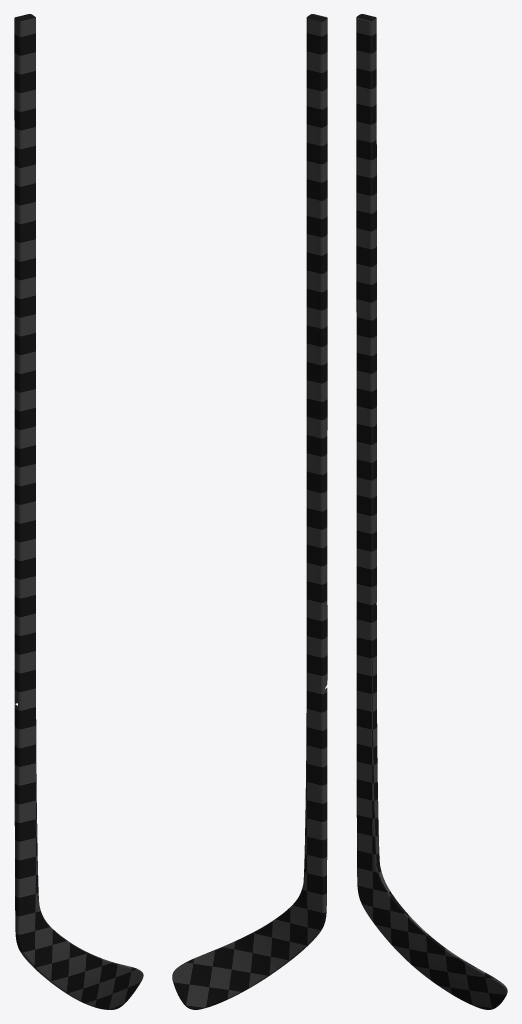
The picture shows the model from 3 angles, left to right: view 1: azimuth 30°, elevation 25°; view 2: azimuth 150°, elevation 25°; view 3: azimuth 330°, elevation 25°; orthographic projection. The views are drawn at different scales.
Parts seen in each view (by area): view 1: geometry_0; view 2: geometry_0; view 3: geometry_0.
Part boxes in pixels (<box>): geometry_0: <box>14,14,143,1009</box>; geometry_0: <box>172,14,327,1009</box>; geometry_0: <box>356,14,507,1009</box>.
Bounding box in the file's own units: 238 × 1650 × 63.6.
1 material, 1 textured.
